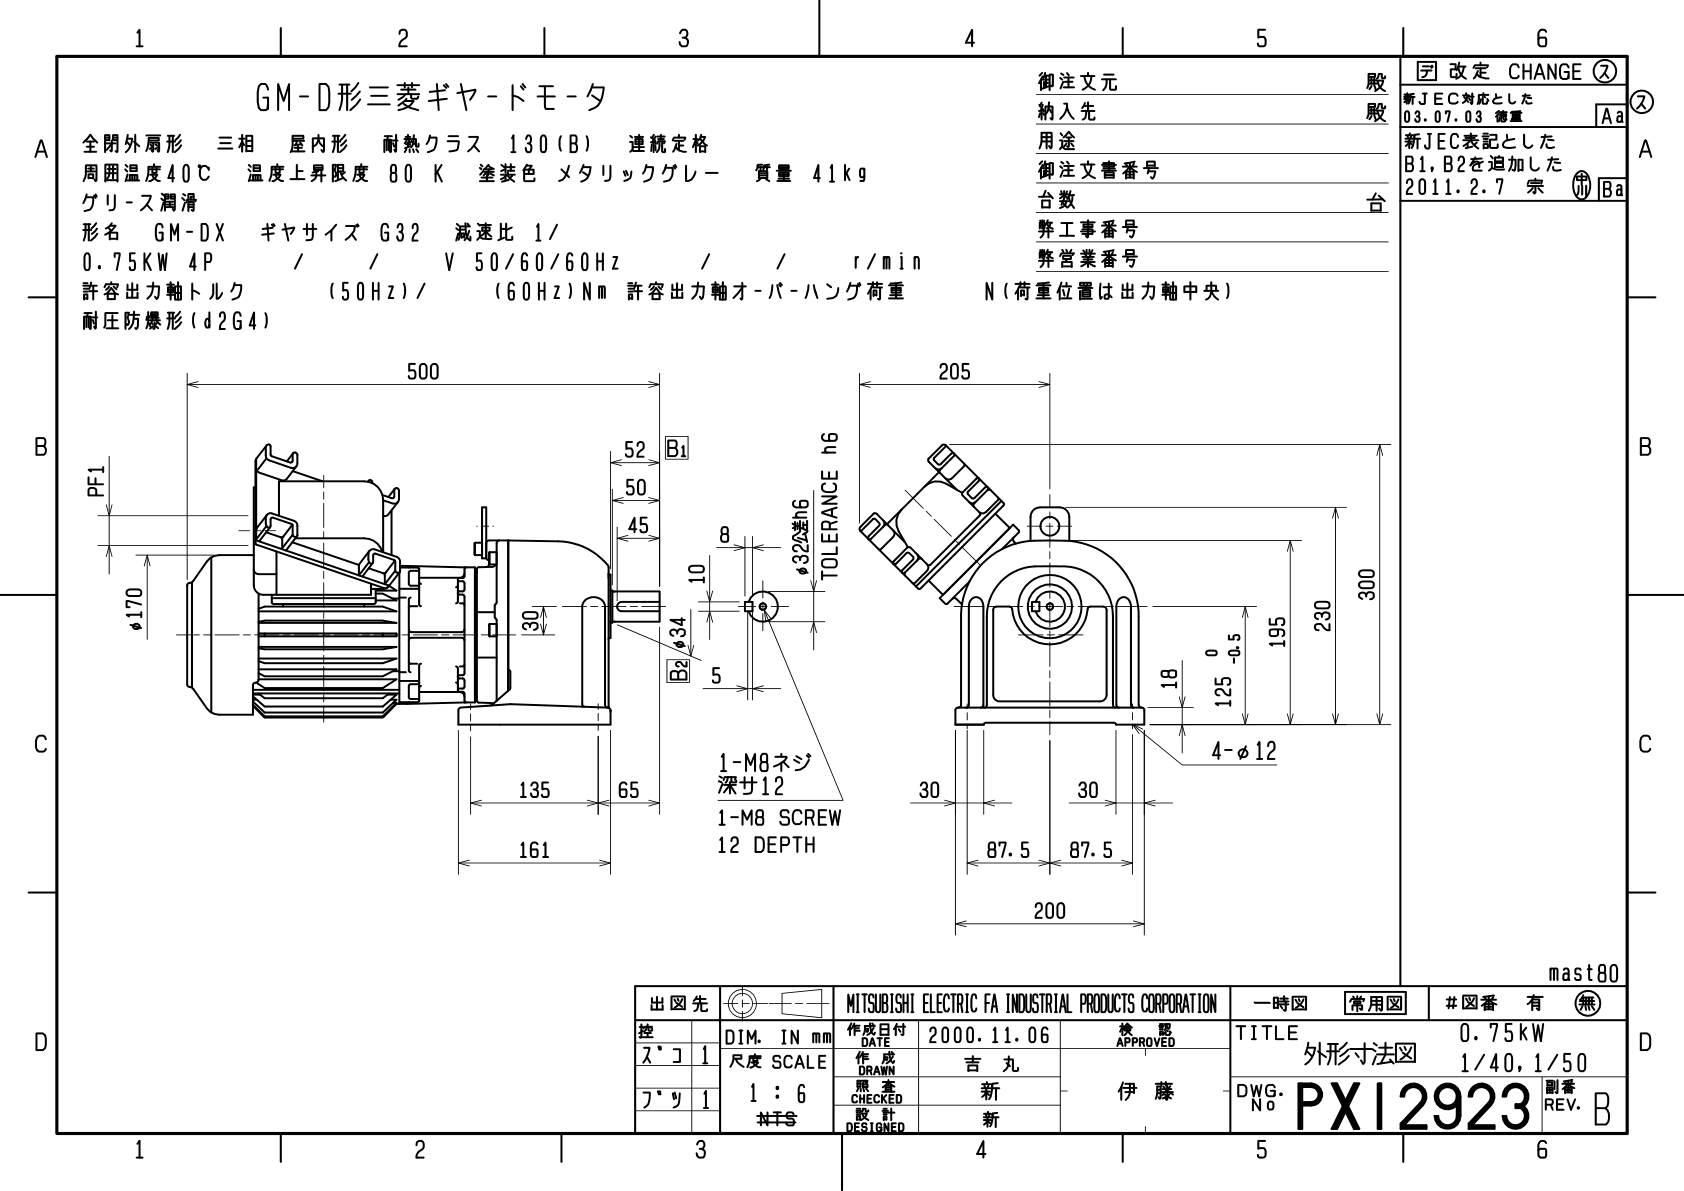GM_D_耐圧屋内_三相_脚: (70, 349, 1393, 949)
